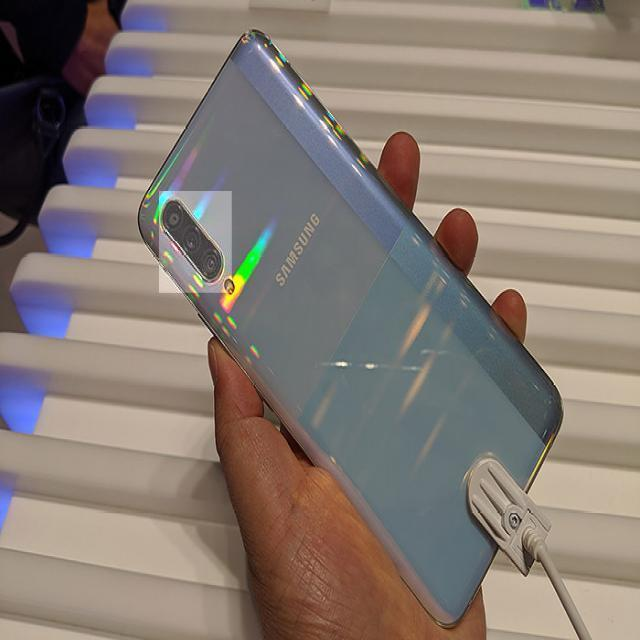phone: (135, 25, 566, 632)
